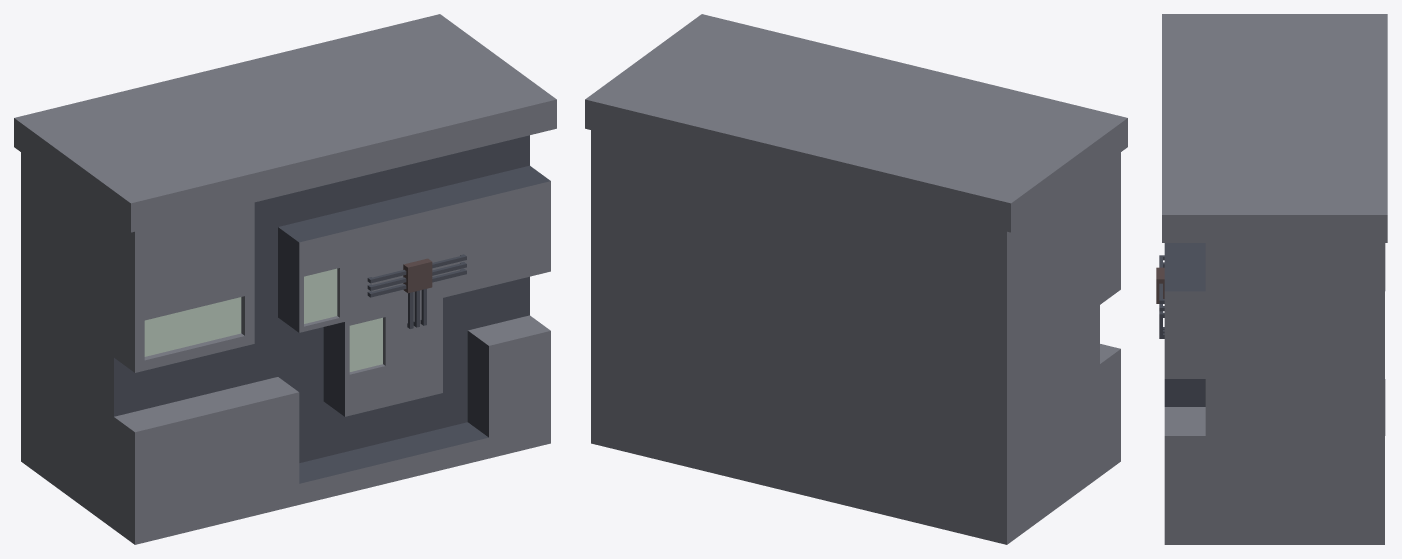
The model's file is HouseBlock7.fbx.
3 views of the same model, side by side, from view 1: azimuth 30°, elevation 25°; view 2: azimuth 150°, elevation 25°; view 3: azimuth 270°, elevation 25° (orthographic). The views are drawn at different scales.
Visible parts, largest first — view 1: HouseBlock9; view 2: HouseBlock9; view 3: HouseBlock9.
Boxes of the visible parts, x1,y1,x2,y2 form: HouseBlock9: [14, 14, 556, 544]; HouseBlock9: [585, 14, 1127, 544]; HouseBlock9: [1156, 14, 1387, 544].
Bounding box in the file's own units: 10233 × 7894 × 4986.
